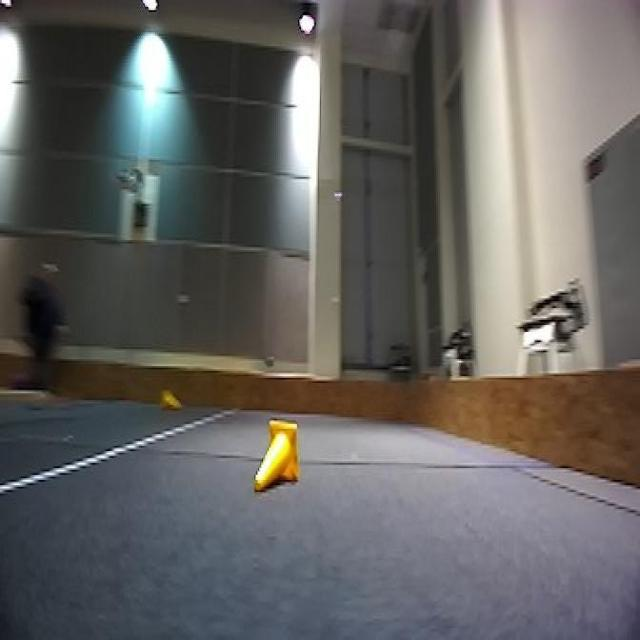frc_cone: (253, 417, 303, 494), (157, 384, 185, 414)
